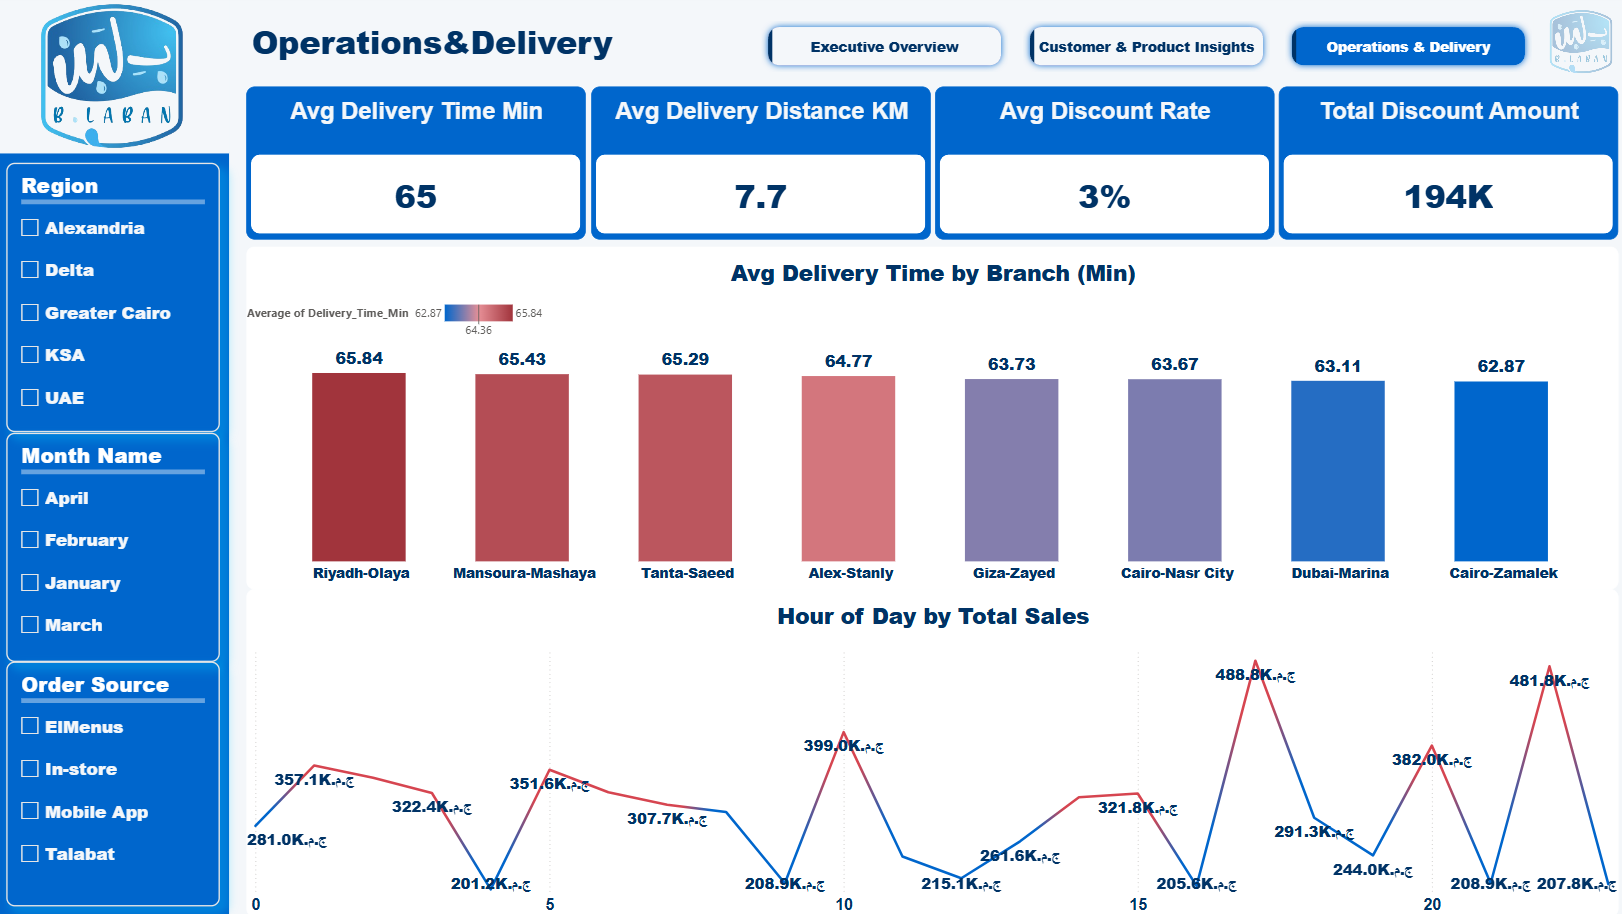

Layout of this report page (visuals, bound fields, positions):
{"tool":"powerbi","page":{"name":"Operations & Delivery","canvas":[1920,1080],"ordinal":2},"visuals":[{"type":"shape","box":[0,181.4,275.6,898.3],"z":0},{"type":"image","box":[0,0,275.6,181.4],"z":1000},{"type":"image","box":[1808.7,10.5,111.6,80.2],"z":2000},{"type":"textbox","box":[276.1,19.7,475.2,73.5],"z":3000},{"type":"cardVisual","title":"Avg Delivery Time Min","fields":{"Data":["_All Measure.Avg Delivery Time"]},"box":[296.1,103,399.4,179.7],"z":4000},{"type":"cardVisual","title":"Avg Delivery Distance KM","fields":{"Data":["_All Measure.Avg Delivery Distance"]},"box":[700.7,103,399.4,179.7],"z":5000},{"type":"cardVisual","title":"Avg Discount Rate","fields":{"Data":["_All Measure.Avg Discount Rate"]},"box":[1105.4,103,399,179.7],"z":6000},{"type":"cardVisual","title":"Total Discount Amount","fields":{"Data":["_All Measure.Total Discount Amount"]},"box":[1510,103,399,179.7],"z":7000},{"type":"clusteredColumnChart","title":"Avg Delivery Time by Branch (Min)","fields":{"Y":["Avg(blaban_cleaned_final.Delivery_Time_Min)"],"Category":["blaban_cleaned_final.Branch"]},"box":[295.9,290.5,1613.8,403.4],"z":8000},{"type":"lineChart","title":"Hour of Day by Total Sales","fields":{"Y":["_All Measure.Total Sales"],"Category":["blaban_cleaned_final.Hour_of_Day"]},"box":[295.9,693.9,1613.8,385.5],"z":10000},{"type":"slicer","fields":{"Values":["blaban_cleaned_final.Region"]},"box":[12.7,192.9,251.2,316.7],"z":11000},{"type":"slicer","fields":{"Values":["blaban_cleaned_final.Month Name"]},"box":[12.7,509.7,251.2,269.4],"z":12000},{"type":"slicer","fields":{"Values":["blaban_cleaned_final.Order_Source"]},"box":[12.7,779.1,251.2,287.6],"z":13000},{"type":"pageNavigator","box":[900.5,25.2,908.4,61.5],"z":13001}]}

Visuals, with their boxes in screenshot pixels (x1, y1, x2, y2), scaled from the page's 1920x1080 canvas onto the 1622x914 screenshot:
shape: l=0, t=154, r=233, b=913
image: l=0, t=0, r=233, b=154
image: l=1528, t=9, r=1621, b=77
textbox: l=233, t=17, r=635, b=79
"Avg Delivery Time Min" cardVisual: l=250, t=87, r=588, b=239
"Avg Delivery Distance KM" cardVisual: l=592, t=87, r=929, b=239
"Avg Discount Rate" cardVisual: l=934, t=87, r=1271, b=239
"Total Discount Amount" cardVisual: l=1276, t=87, r=1613, b=239
"Avg Delivery Time by Branch (Min)" clusteredColumnChart: l=250, t=246, r=1613, b=587
"Hour of Day by Total Sales" lineChart: l=250, t=587, r=1613, b=913
slicer - blaban_cleaned_final.Region: l=11, t=163, r=223, b=431
slicer - blaban_cleaned_final.Month Name: l=11, t=431, r=223, b=659
slicer - blaban_cleaned_final.Order_Source: l=11, t=659, r=223, b=903
pageNavigator: l=761, t=21, r=1528, b=73
